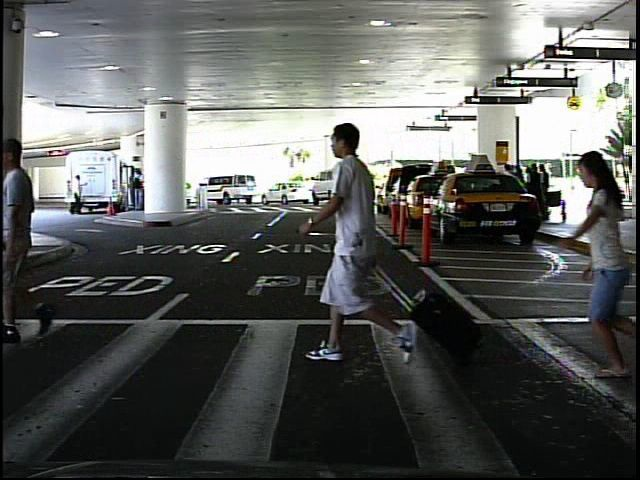person: (316, 109, 414, 376), (68, 172, 86, 217), (596, 172, 599, 218)
